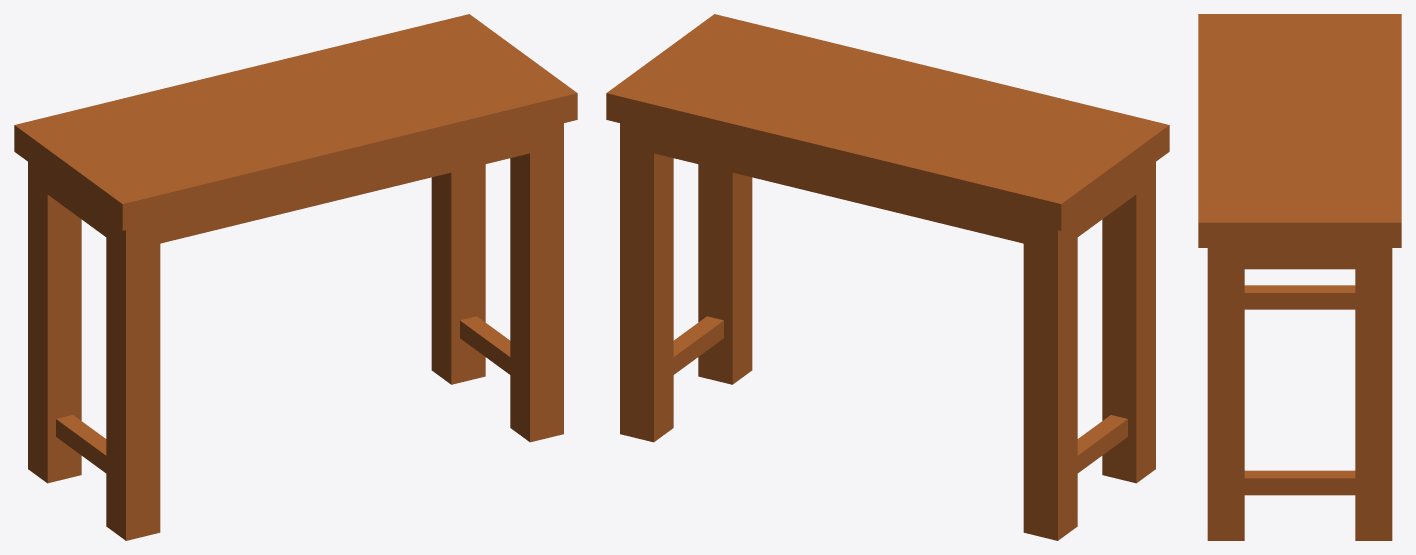
File: TableSide.fbx
3 renders of one model, left to right at view 1: azimuth 30°, elevation 25°; view 2: azimuth 150°, elevation 25°; view 3: azimuth 270°, elevation 25°, orthographic. The views are drawn at different scales.
Parts seen in each view (by area): view 1: sideTable; view 2: sideTable; view 3: sideTable.
Part boxes in pixels (left/top/right/bottom): sideTable: left=14, top=14, right=577, bottom=540; sideTable: left=606, top=14, right=1169, bottom=540; sideTable: left=1198, top=14, right=1401, bottom=540.
Size of the model in its own units: 5.34 by 3.84 by 2.2.
